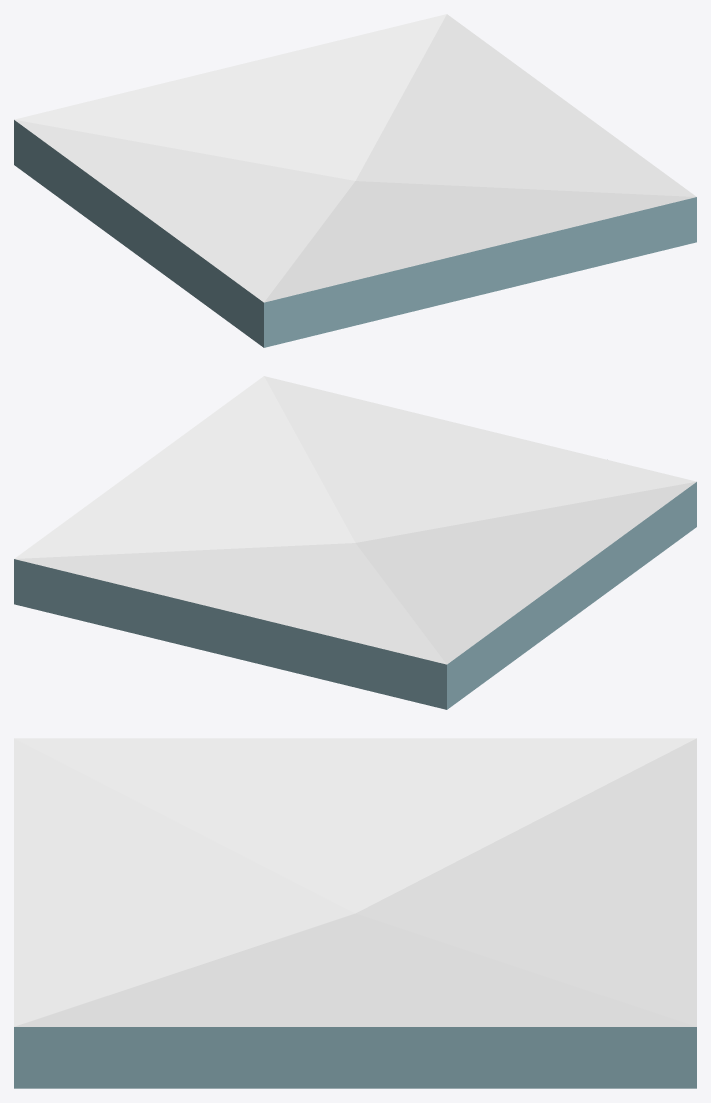
The model's file is Terrain_Modular_Tiles_Snow_Ice_Divot_01.fbx.
3 renders of one model, top to bottom at view 1: azimuth 30°, elevation 25°; view 2: azimuth 150°, elevation 25°; view 3: azimuth 270°, elevation 25°, orthographic. The views are drawn at different scales.
Parts seen in each view (by area): view 1: Terrain_Modular_Tiles_Snow_Ice_Divot_01; view 2: Terrain_Modular_Tiles_Snow_Ice_Divot_01; view 3: Terrain_Modular_Tiles_Snow_Ice_Divot_01.
Boxes of the visible parts, x1,y1,x2,y2 form: Terrain_Modular_Tiles_Snow_Ice_Divot_01: (14, 14, 696, 347); Terrain_Modular_Tiles_Snow_Ice_Divot_01: (14, 376, 696, 709); Terrain_Modular_Tiles_Snow_Ice_Divot_01: (14, 738, 696, 1088).
Size of the model in its own units: 3000 by 300 by 3000.
